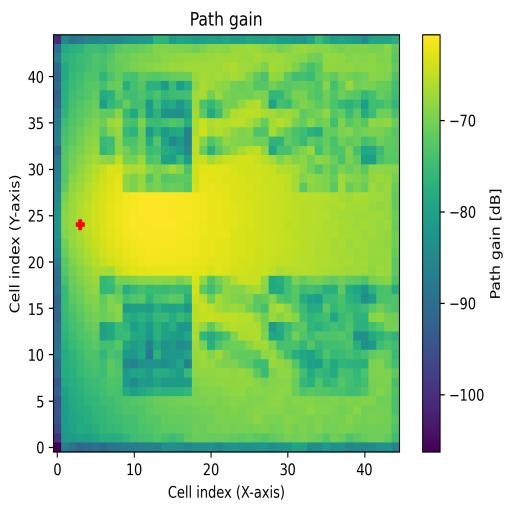Concrete: (292, 72, 368, 192)
Glass: (123, 71, 193, 193)
Metal: (292, 275, 369, 397)
Wood: (123, 275, 192, 396)
